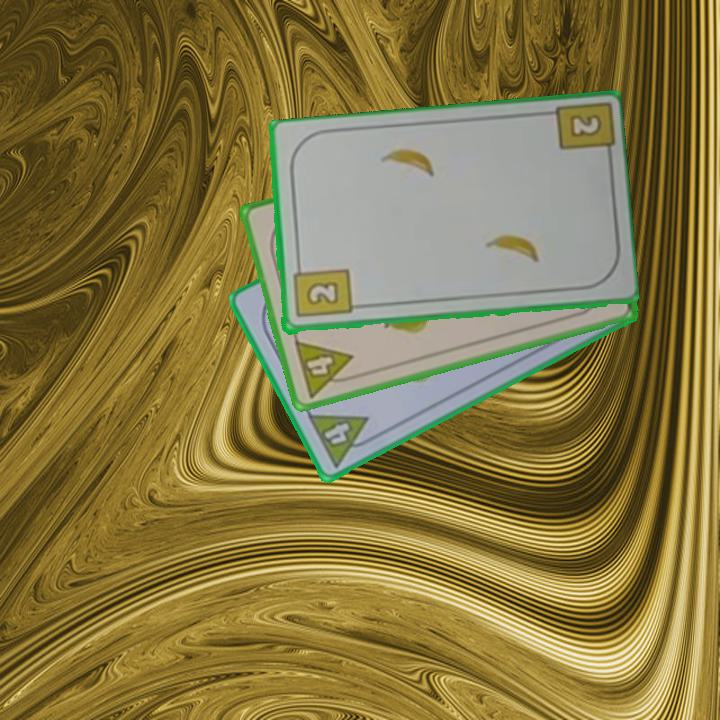2b: (289, 260, 354, 321), (565, 110, 605, 141)
4p: (304, 410, 381, 471), (290, 336, 361, 401)
